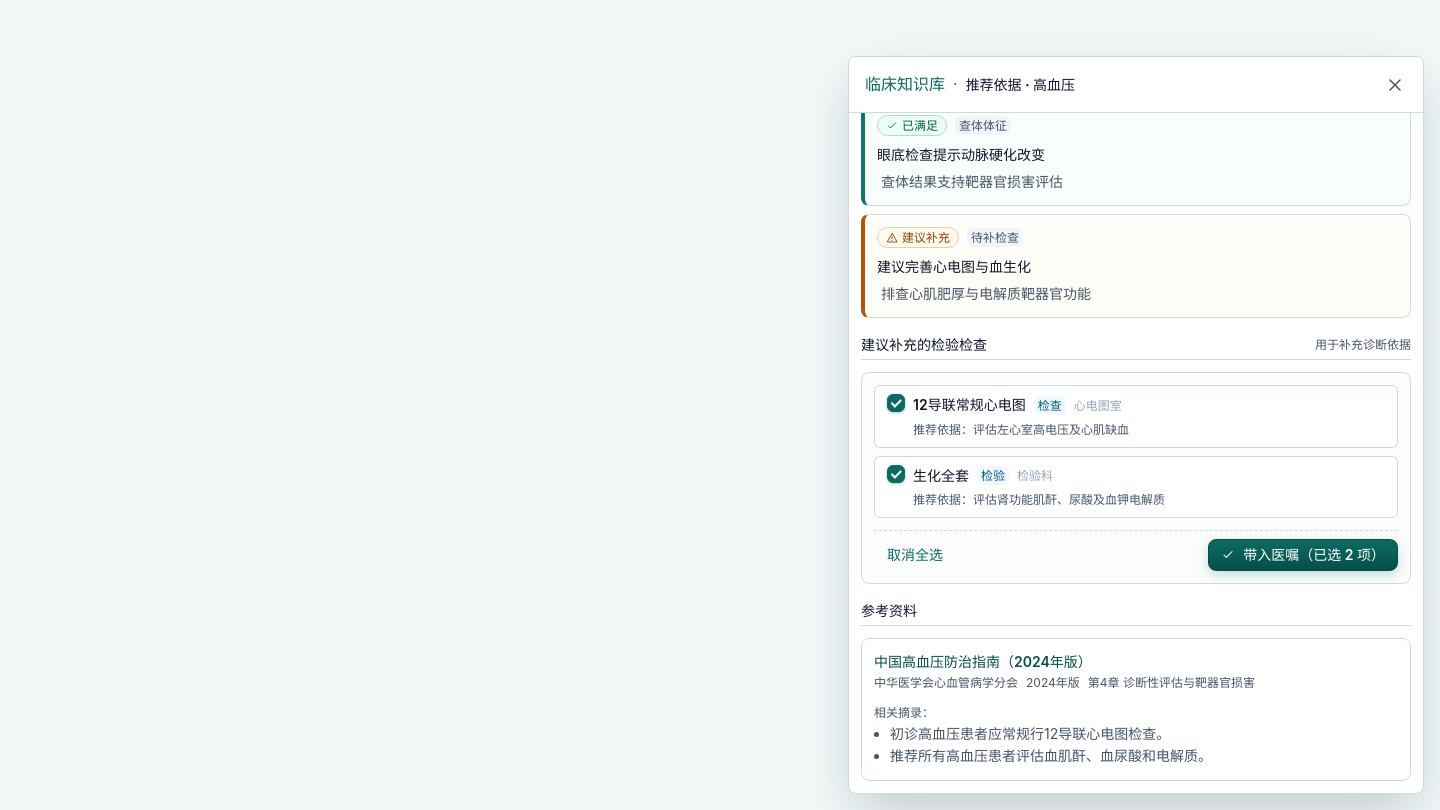
Scenario: ClinicalEvidenceDrawer › keeps API failures visible and never closes or reports a catalog miss
The image size is (1440, 810).
(page scrolled)
What coordinates should you click on to do the following:
click the button "带入医嘱（已选 2 项）"
I would click on:
 (1303, 555)
Its box is [1208, 539, 1398, 571].
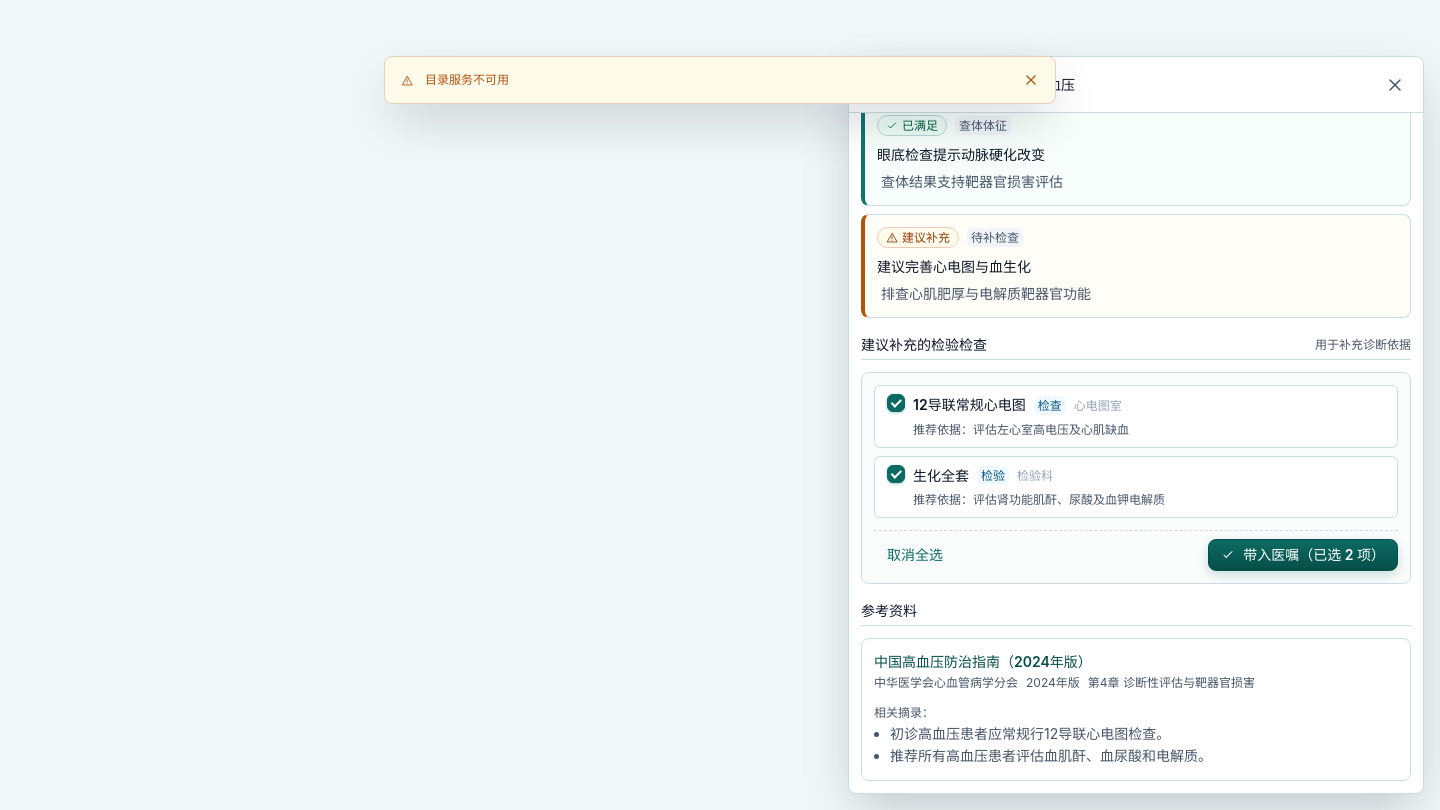
expect the text "目录服务不可用" is shown: met, box [425, 72, 509, 87]
